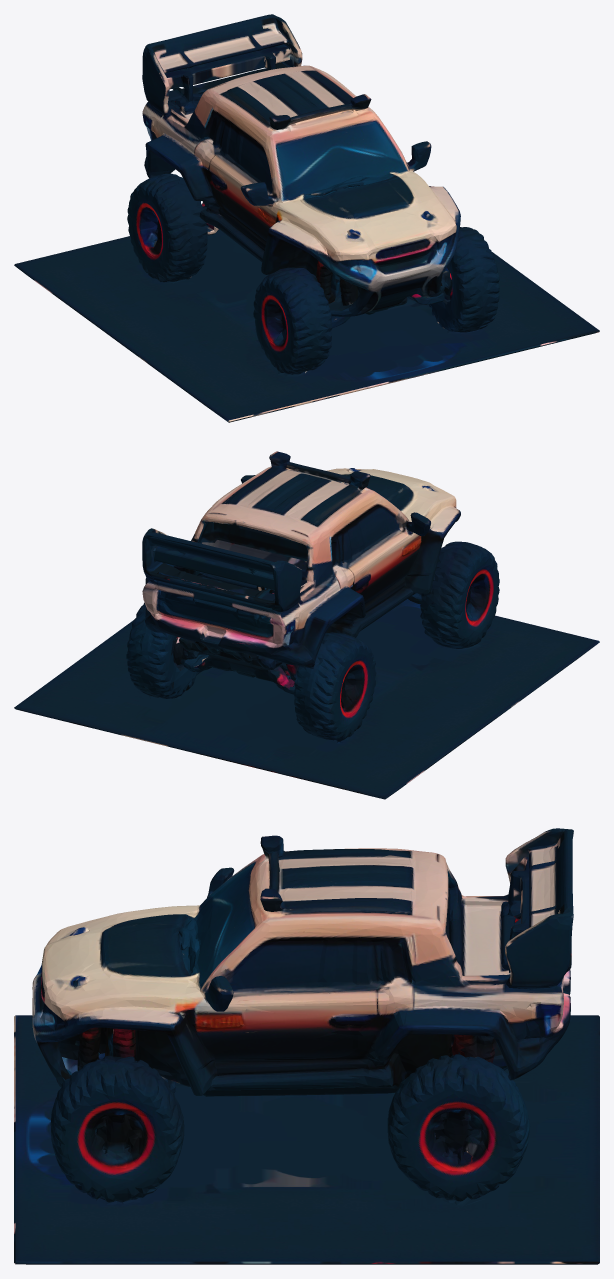
Rendered from sample_vehicle.glb.
The picture shows the model from 3 angles, top to bottom: view 1: azimuth 30°, elevation 25°; view 2: azimuth 150°, elevation 25°; view 3: azimuth 270°, elevation 25°; orthographic projection. The views are drawn at different scales.
Parts seen in each view (by area): view 1: model, wheel4, wheel3, wheel1; view 2: model, wheel3, wheel4, wheel2; view 3: model, wheel1, wheel2, wheel3.
Boxes of the visible parts, bbox=[...] form: model: bbox=[14, 14, 599, 422]; wheel4: bbox=[253, 240, 380, 378]; wheel3: bbox=[127, 170, 208, 283]; wheel1: bbox=[407, 227, 499, 353]; model: bbox=[14, 451, 599, 799]; wheel3: bbox=[177, 627, 376, 751]; wheel4: bbox=[372, 515, 499, 656]; wheel2: bbox=[126, 602, 199, 730]; model: bbox=[14, 828, 599, 1264]; wheel1: bbox=[39, 1033, 206, 1213]; wheel2: bbox=[387, 1055, 558, 1201]; wheel3: bbox=[504, 1067, 597, 1153].
Bounding box in the file's own units: 1.99 × 1.03 × 1.99.
Materials: 1 (1 with a texture image).
